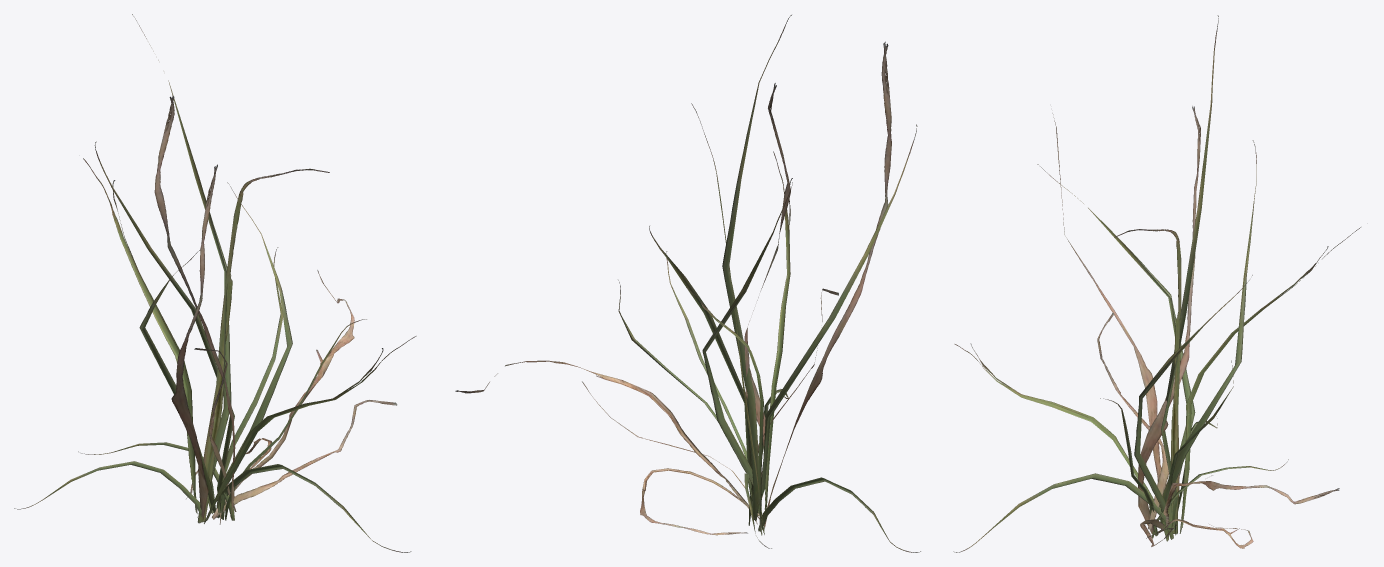
Rendered from grass_a.glb.
The picture shows the model from 3 angles, left to right: view 1: azimuth 30°, elevation 25°; view 2: azimuth 150°, elevation 25°; view 3: azimuth 270°, elevation 25°; orthographic projection. The views are drawn at different scales.
Parts seen in each view (by area): view 1: Forest_grass_a; view 2: Forest_grass_a; view 3: Forest_grass_a.
Part boxes in pixels (box(x1,y1,x2,y2)): Forest_grass_a: box(14, 14, 416, 552); Forest_grass_a: box(455, 15, 920, 552); Forest_grass_a: box(953, 15, 1360, 552).
Bounding box in the file's own units: 0.1191 × 0.1569 × 0.1198.
1 material, 1 textured.
